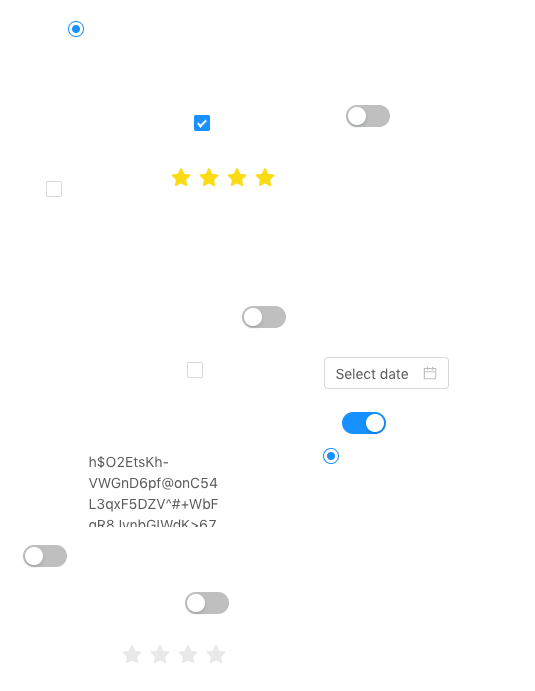Checkbox: (194, 112, 210, 133), (187, 359, 203, 380), (46, 178, 62, 199)
DatePicker: (324, 357, 449, 389)
Radio: (323, 445, 339, 465), (68, 18, 84, 38)
Rate: (171, 161, 291, 193), (122, 638, 242, 670)
Switch: (346, 104, 390, 128), (185, 591, 229, 615), (23, 544, 67, 568), (342, 411, 386, 435), (242, 305, 286, 329)
Text: (89, 451, 220, 527)
